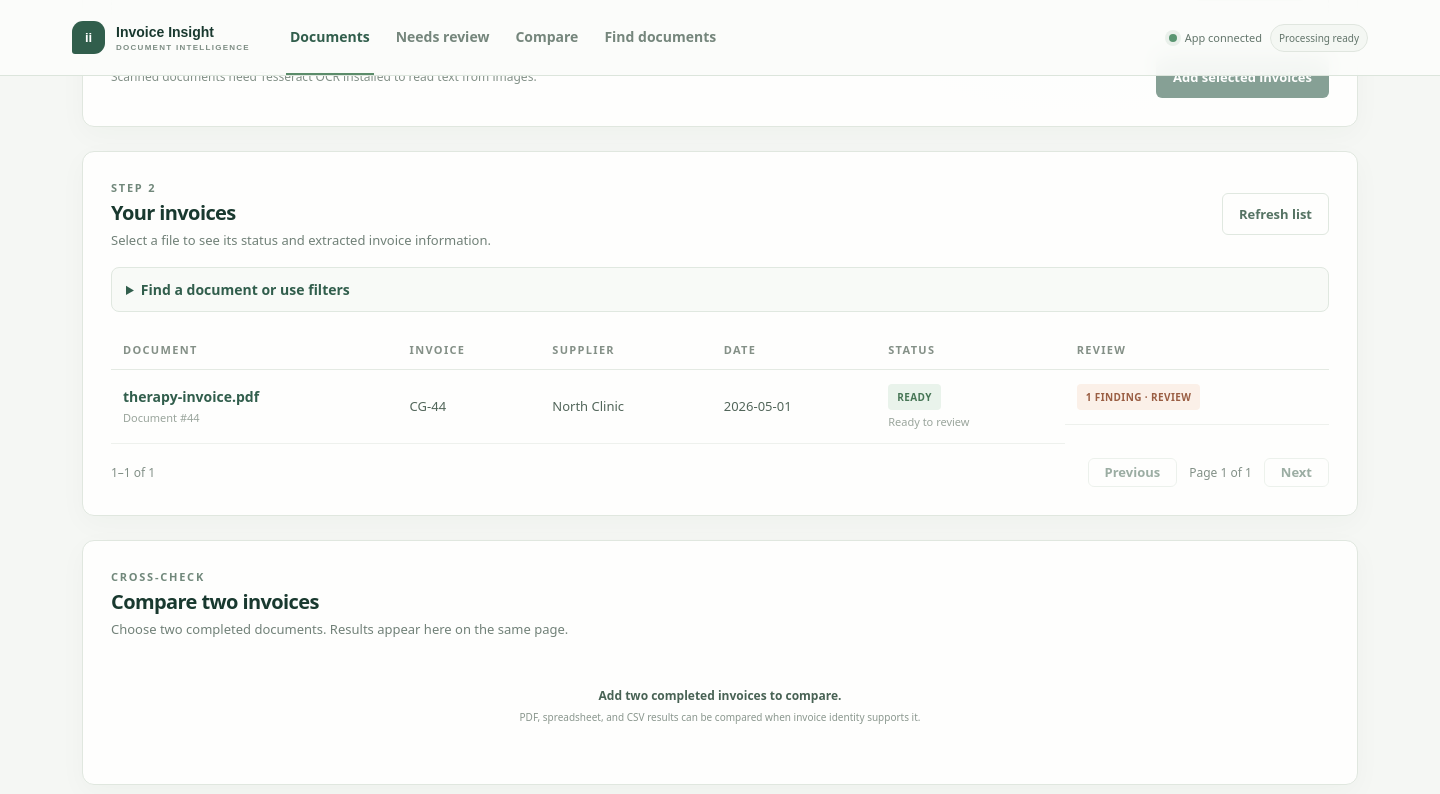
Test: document workspace › turns stored JSON OCR errors into a readable review message
The image size is (1440, 794).
(page scrolled)
Click the button "therapy-invoice.pdf Document #44".
click(191, 406)  # box [123, 387, 259, 425]
(page scrolled)
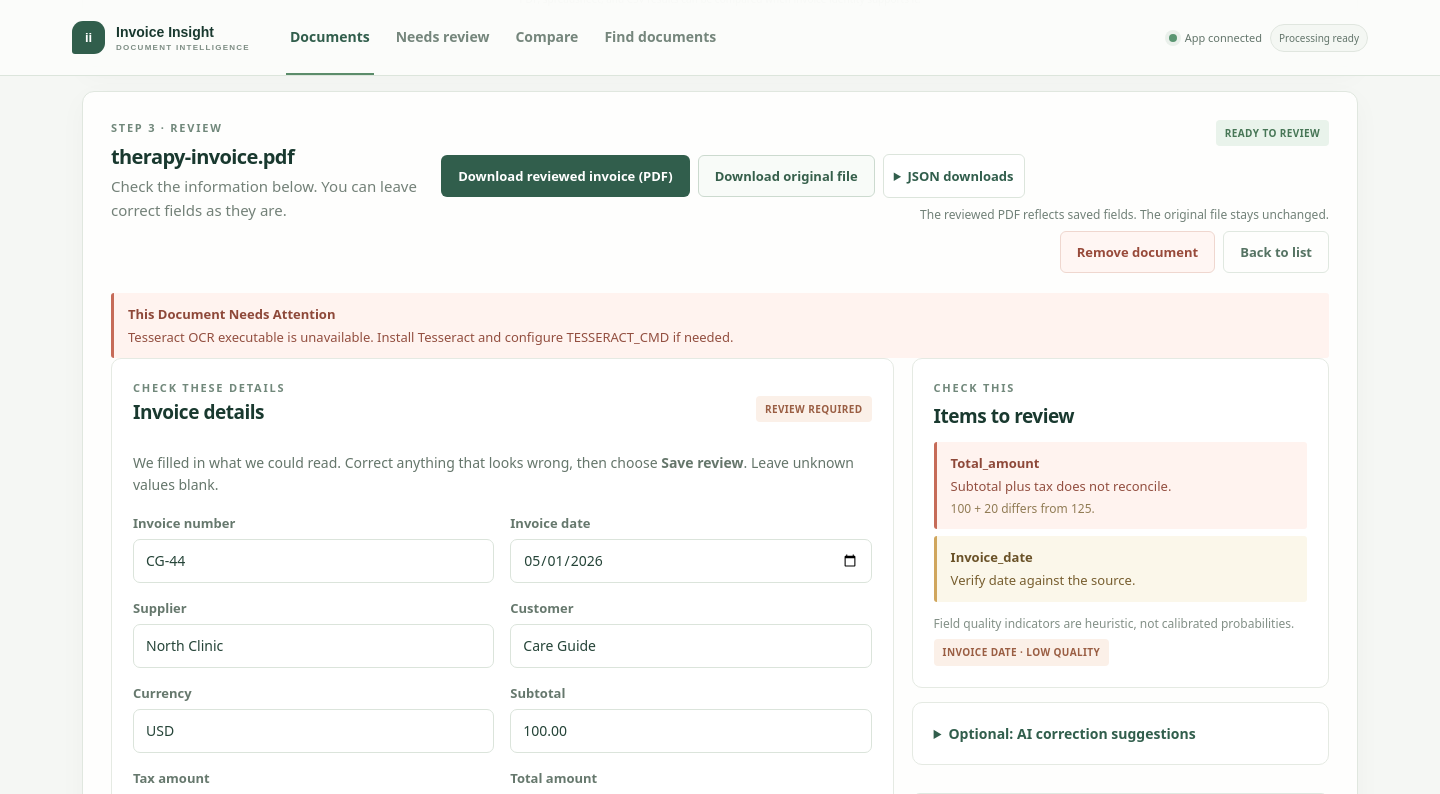
Result: the text "This document needs attention" is shown at [128, 305, 336, 323]
Result: the text "Tesseract OCR executable is unavailable. Install Tesseract and configure TESSERACT_CMD if needed." is shown at [128, 328, 733, 346]
